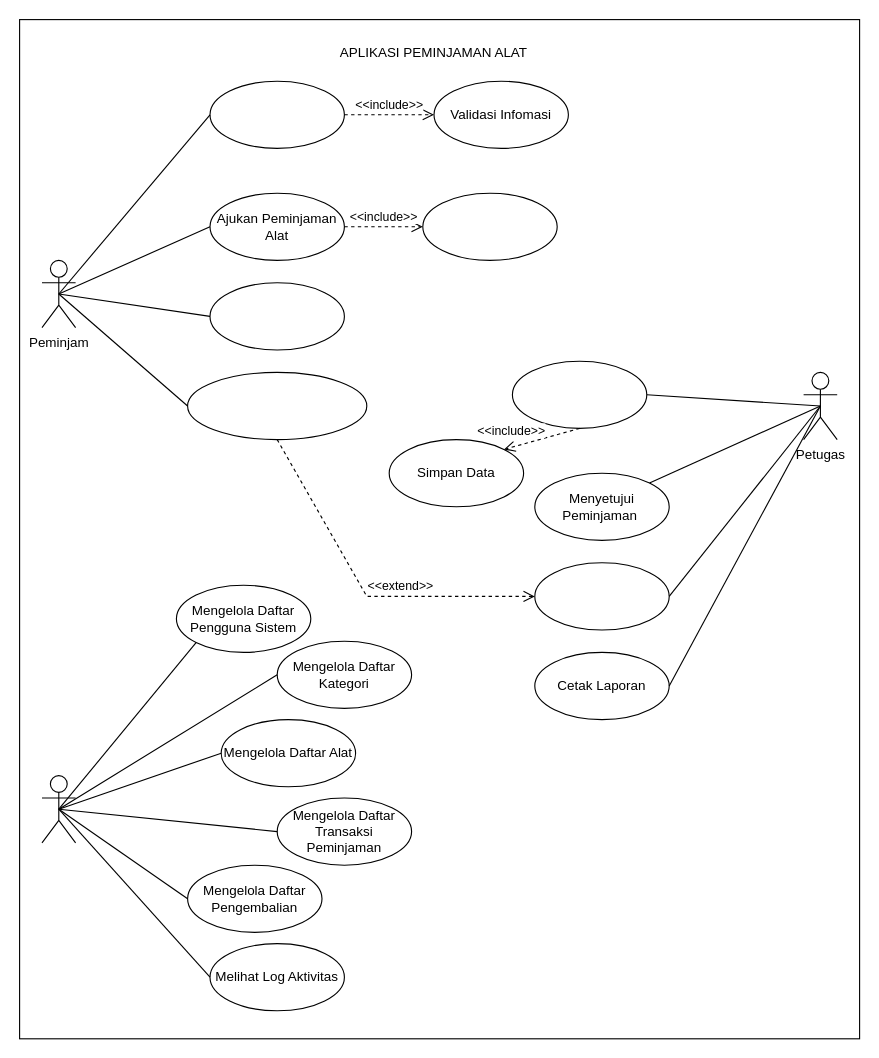
The diagram is 879 pixels wide and 1058 high, and some of its shapes have lost their labels. Here are the shapes that lost their labels. From the top down, the centre of each, then its label:
At pixel 276 114: "Login".
At pixel 489 226: "Lihat Daftar Alat".
At pixel 276 316: "Lihat Riwayat Peminjaman".
At pixel 276 405: "Bayar Denda Keterlambatan/Kerusakan Alat".
At pixel 579 394: "Pencatatan Pengajuan dan Transaksi".
At pixel 601 596: "Verifikasi Pengembalian".
At pixel 58 808: "Admin".
